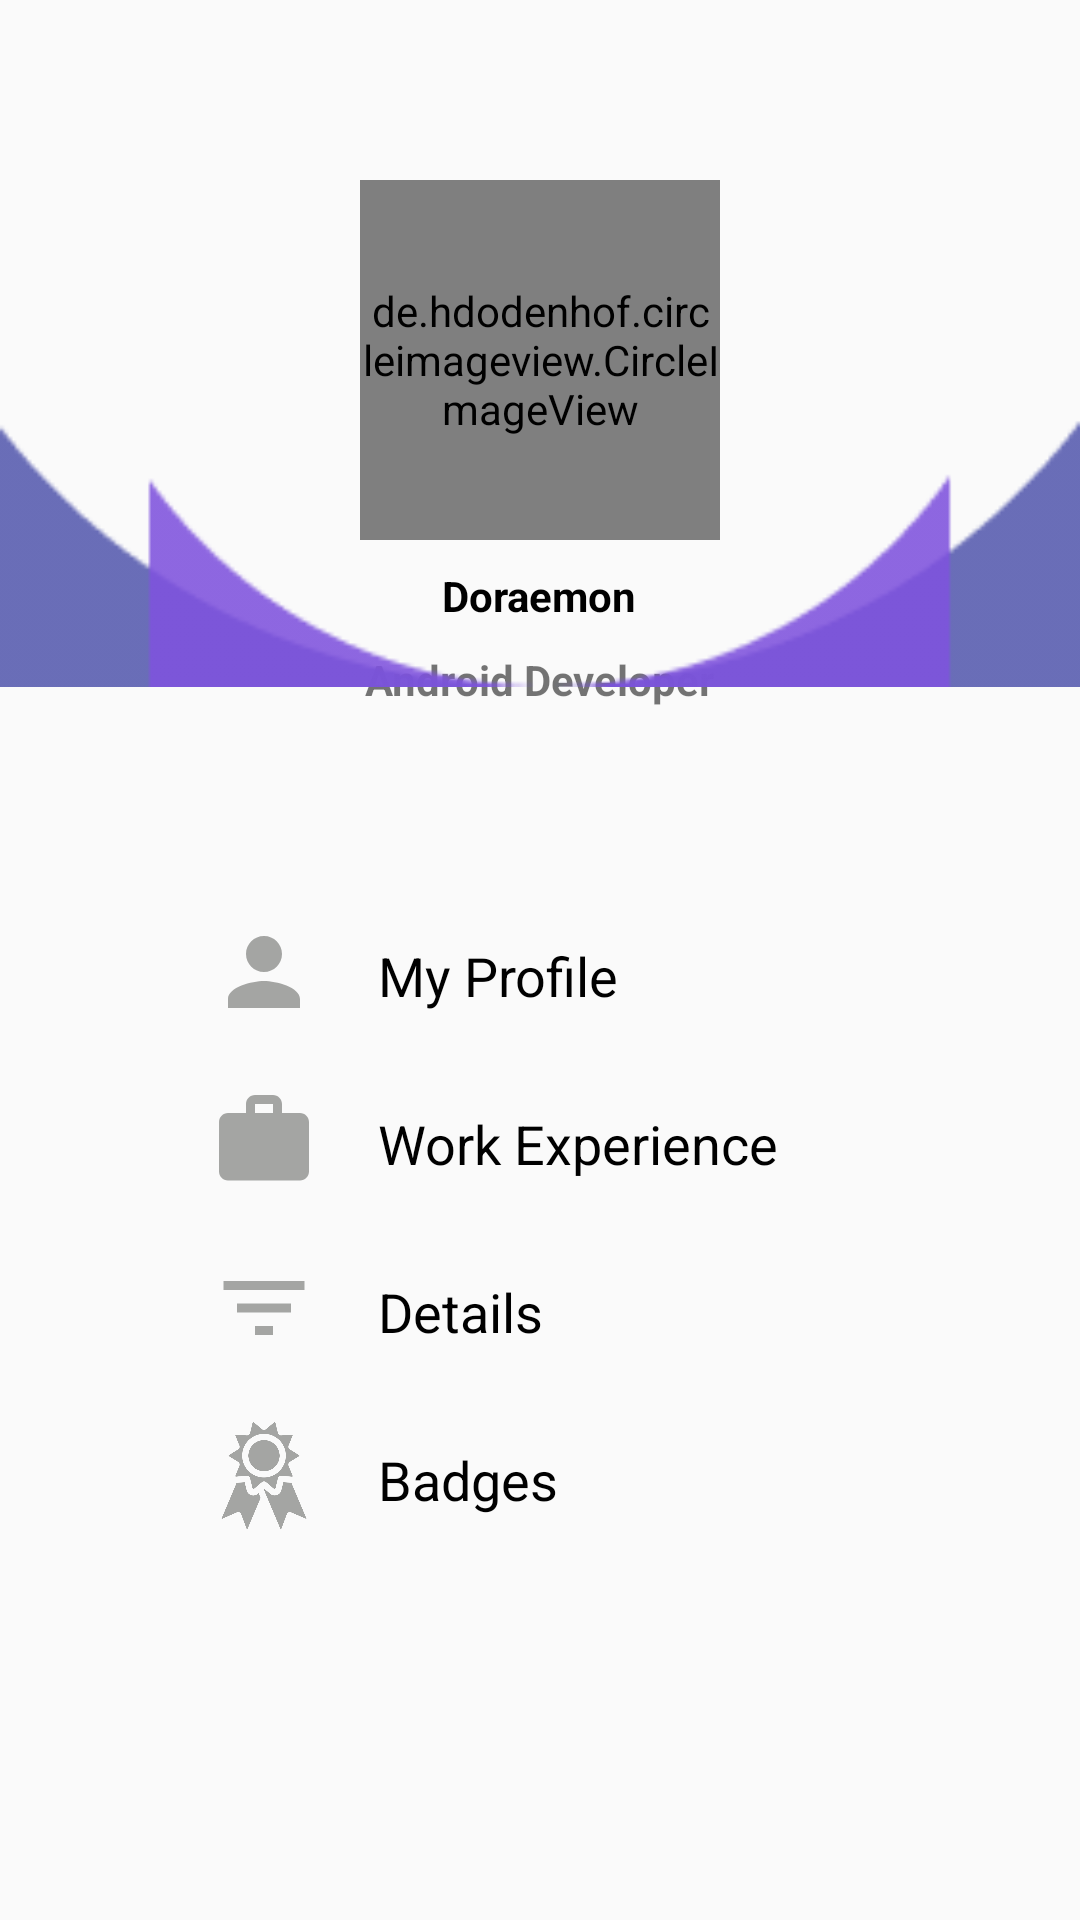

Where to tap for icons on this 1080px×1920px app screen, as [x,y]:
filter list: [264,1308]
icperson: [264,972]
medal: [264,1475]
